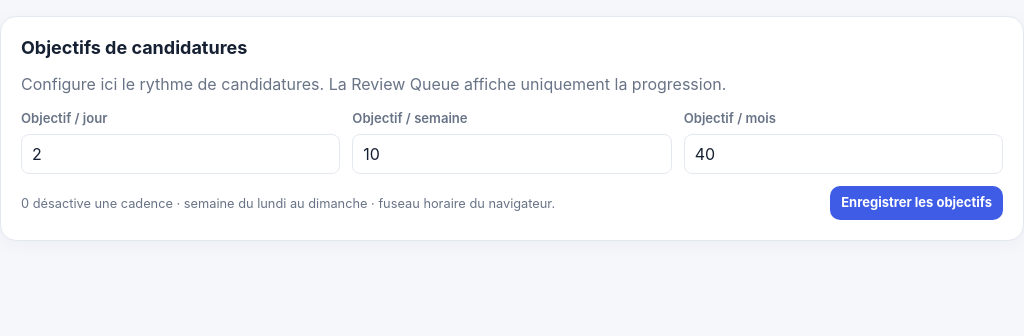
application goals › configures daily, weekly and monthly targets from settings
This screenshot has width=1024, height=336.
Expected: the number field named "Objectif hebdomadaire de candidatures" holds "10", [352,134,672,174]
Expected: the number field named "Objectif mensuel de candidatures" holds "40", [684,134,1003,174]
Replace the text in the number field named "Objectif journalier de candidatures" with "3" at (181, 154), box [21,134,340,174]
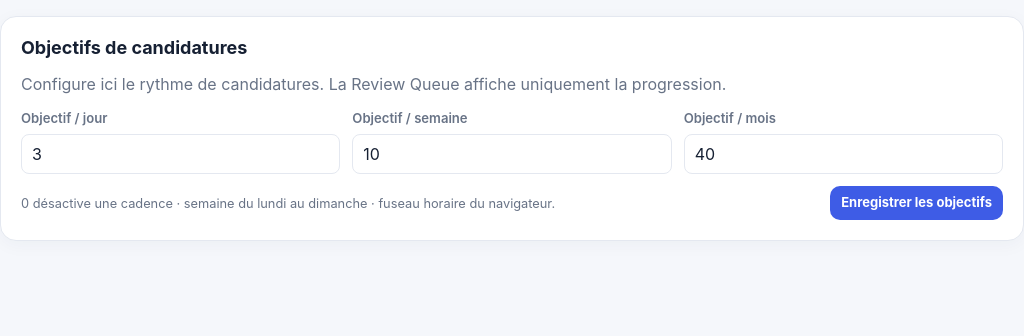
Click the button "Enregistrer les objectifs" at (917, 203), box [830,186,1003,220]
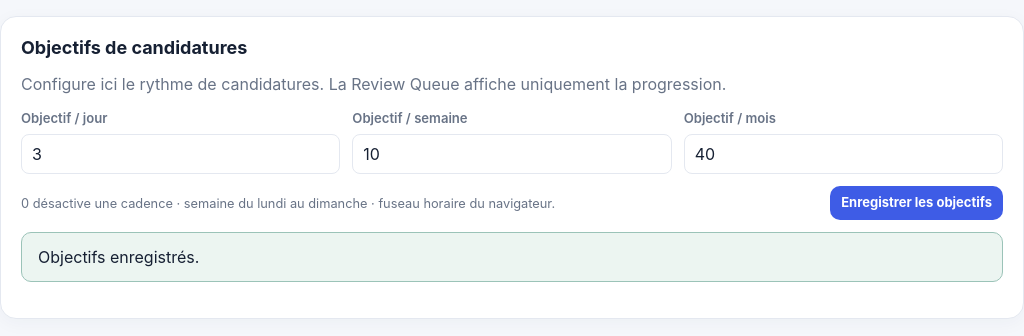
Now the text "Objectifs enregistrés." is shown, box [21,232,1003,282]
